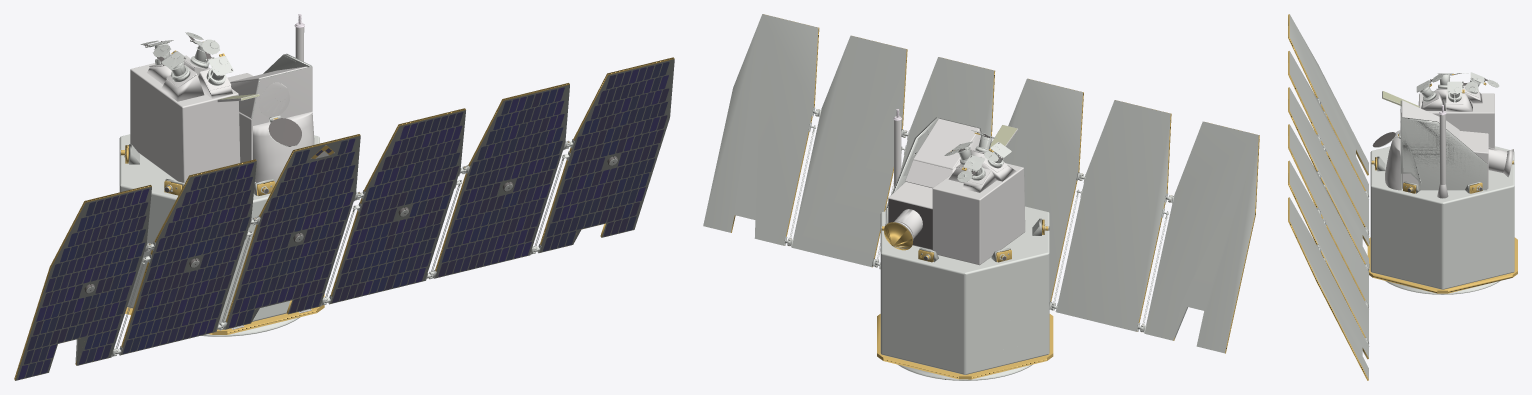
Rendered from aeronomy-of-ice-in-the-mesosphere.glb.
3 renders of one model, left to right at view 1: azimuth 30°, elevation 25°; view 2: azimuth 150°, elevation 25°; view 3: azimuth 270°, elevation 25°, orthographic. The views are drawn at different scales.
Parts seen in each view (by area): view 1: Fake; view 2: Fake; view 3: Fake.
Boxes of the visible parts, x1,y1,x2,y2 form: Fake: [14, 14, 674, 380]; Fake: [703, 14, 1259, 380]; Fake: [1288, 14, 1517, 380].
Bounding box in the file's own units: 41.4 × 17.21 × 18.53.
1 material, 1 textured.
